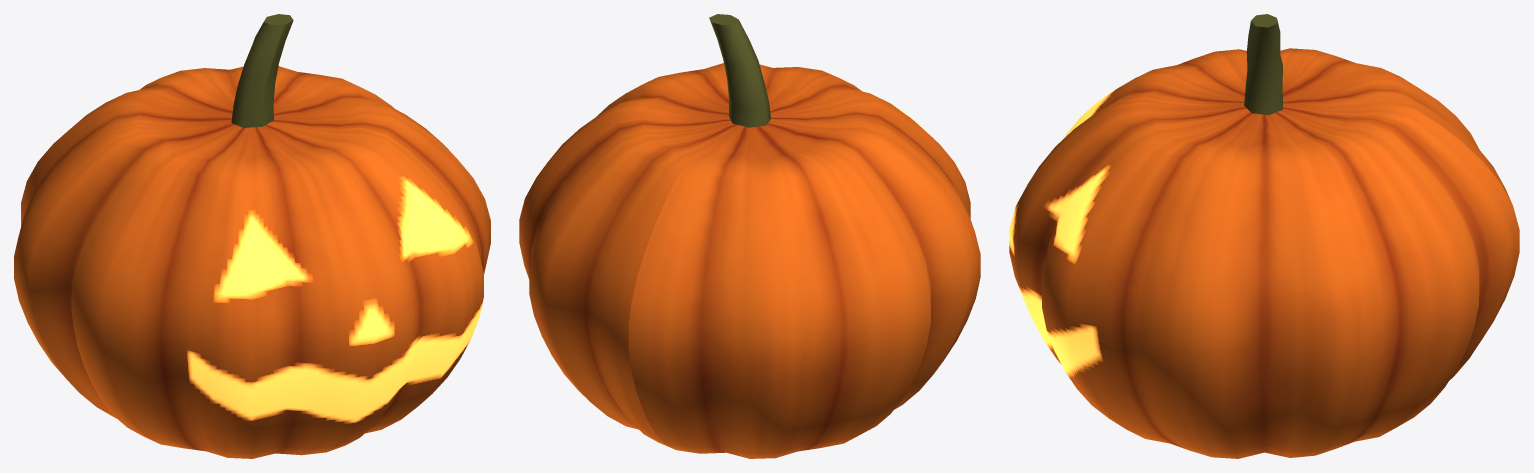
Rendered from jack.glb.
3 views of the same model, side by side, from view 1: azimuth 30°, elevation 25°; view 2: azimuth 150°, elevation 25°; view 3: azimuth 270°, elevation 25° (orthographic). The views are drawn at different scales.
Visible parts, largest first — view 1: body, stem; view 2: body, stem; view 3: body, stem.
Part boxes in pixels (x1,y1,x2,y2): body: [14, 66, 490, 458]; stem: [231, 14, 293, 127]; body: [519, 63, 980, 458]; stem: [709, 14, 770, 127]; body: [1009, 48, 1519, 458]; stem: [1244, 14, 1282, 115].
Size of the model in its own units: 1.86 by 1.65 by 1.94.
Materials: 2 (1 with a texture image).
